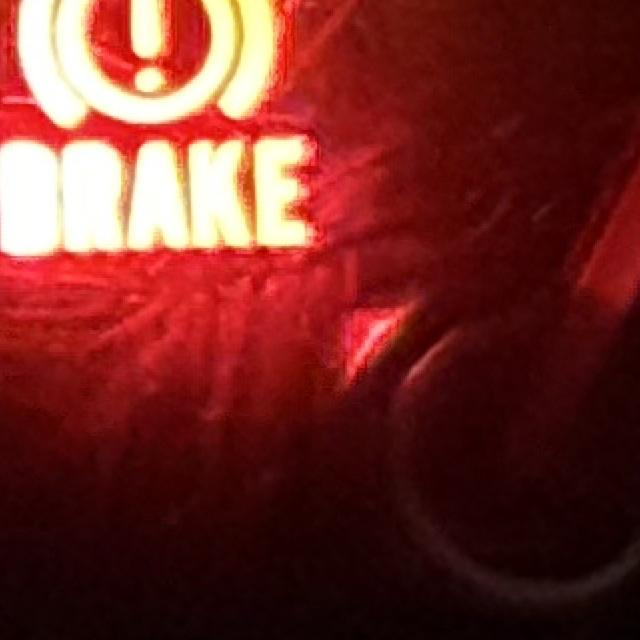Break System Issue: (1, 1, 322, 261)
